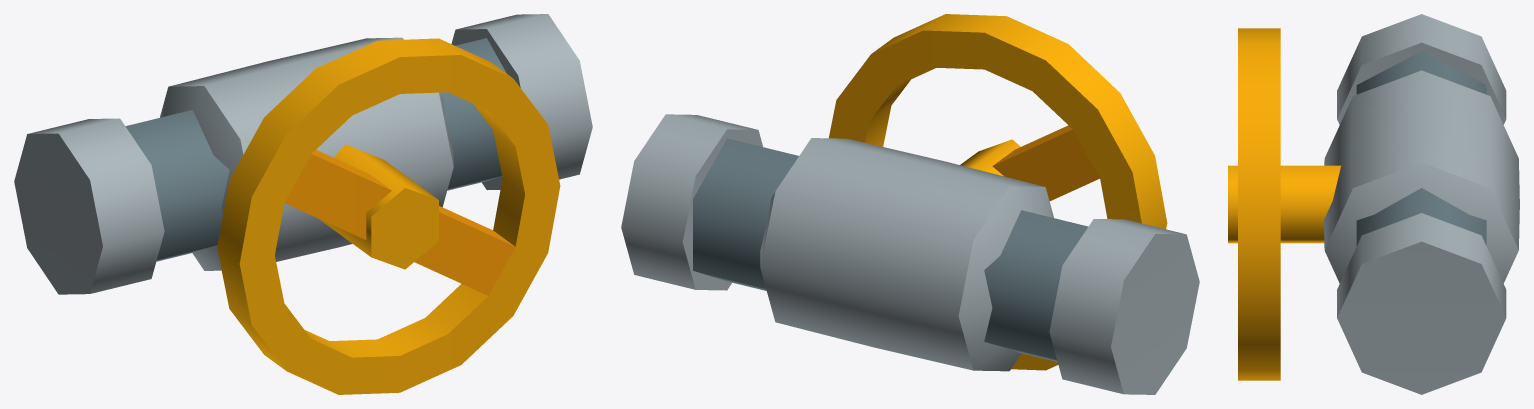
Rendered from Pipe_009.glb.
3 views of the same model, side by side, from view 1: azimuth 30°, elevation 25°; view 2: azimuth 150°, elevation 25°; view 3: azimuth 270°, elevation 25° (orthographic). The views are drawn at different scales.
Parts seen in each view (by area): view 1: Pipe_009; view 2: Pipe_009; view 3: Pipe_009.
Part boxes in pixels (x1,y1,x2,y2): Pipe_009: (14, 14, 592, 394); Pipe_009: (621, 14, 1199, 394); Pipe_009: (1228, 14, 1519, 394).
Size of the model in its own units: 0.6181 by 0.4048 by 0.3351.
Materials: 1 (1 with a texture image).
